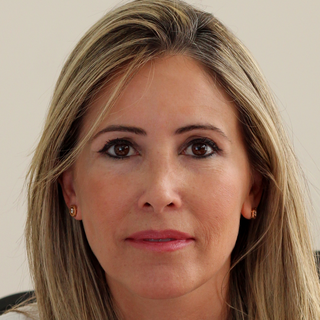eye: (172, 134, 229, 164), (93, 134, 147, 164)
